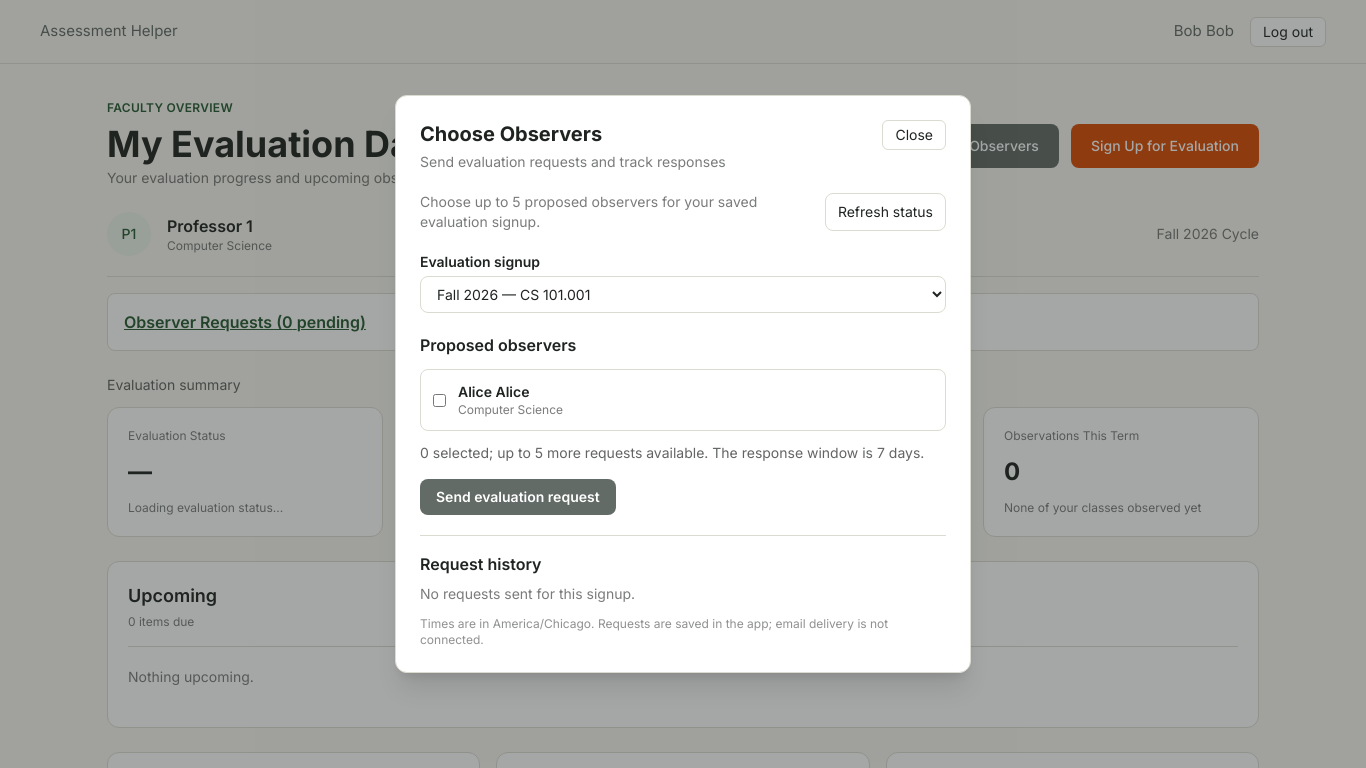
Scenario: keeps the choice after a failed send and allows a retry
This screenshot has width=1366, height=768.
Click the checkbox labelled "Alice Alice Computer Science": (440, 400) x1=433 y1=394 x2=446 y2=406
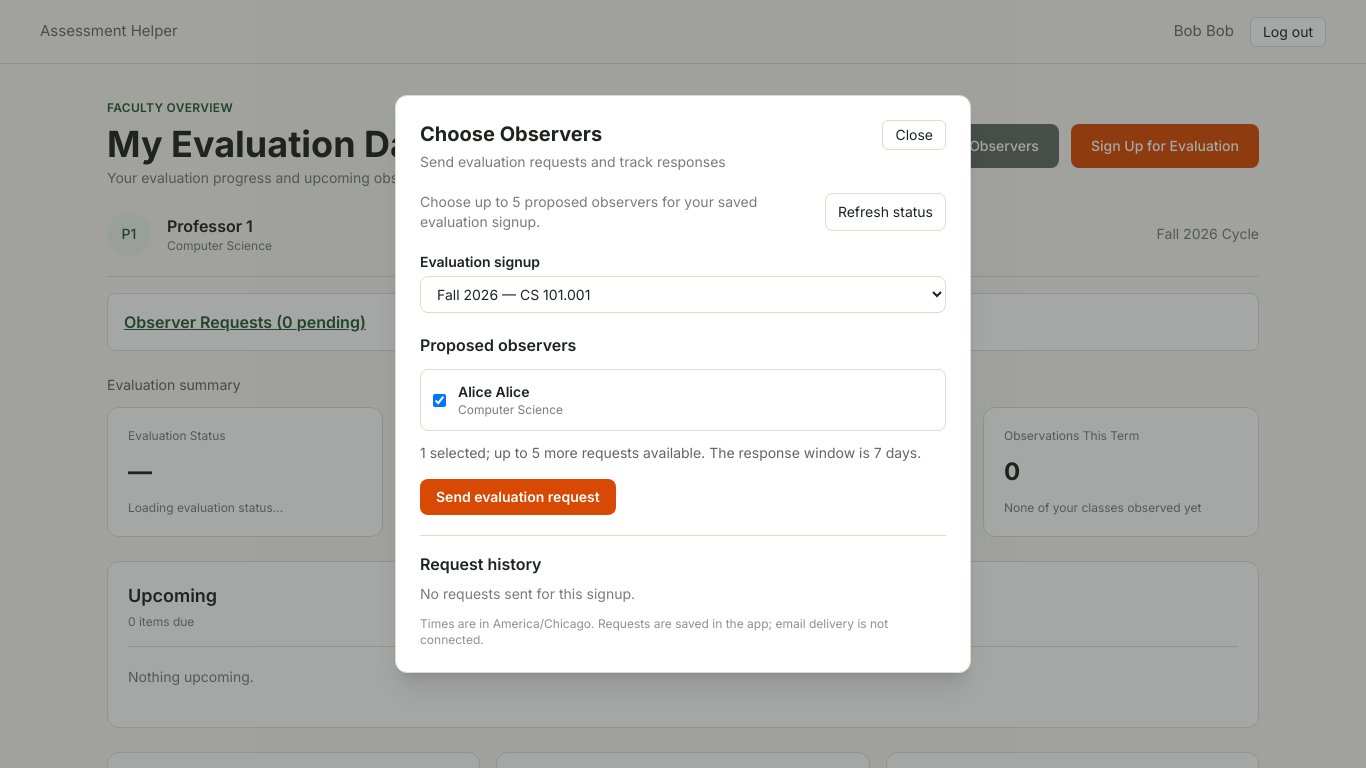
Click the button "Send evaluation request": (518, 497) x1=420 y1=479 x2=616 y2=515
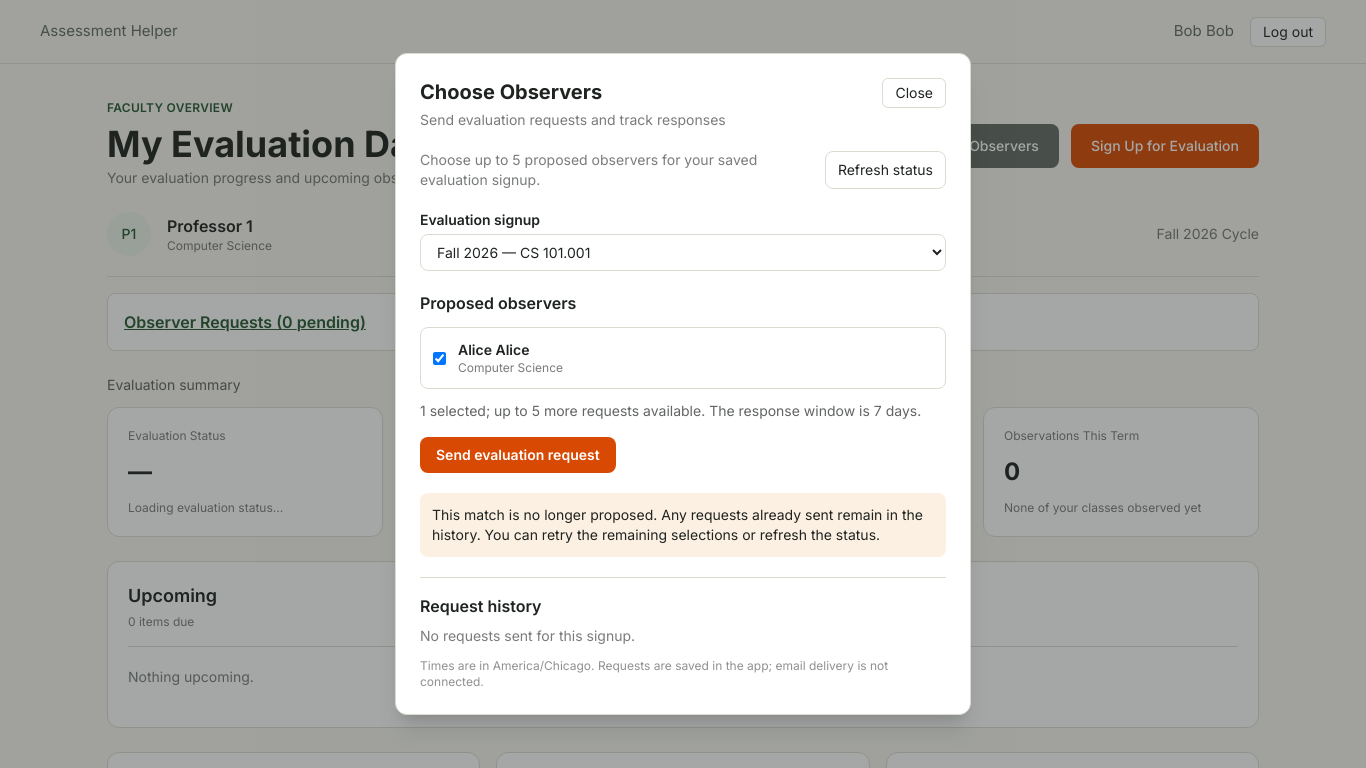
Now the checkbox labelled "Alice Alice Computer Science" is checked, box x1=433 y1=352 x2=446 y2=364
Now the message is shown, box x1=420 y1=493 x2=946 y2=557
Click the button "Send evaluation request": (518, 455) x1=420 y1=437 x2=616 y2=473
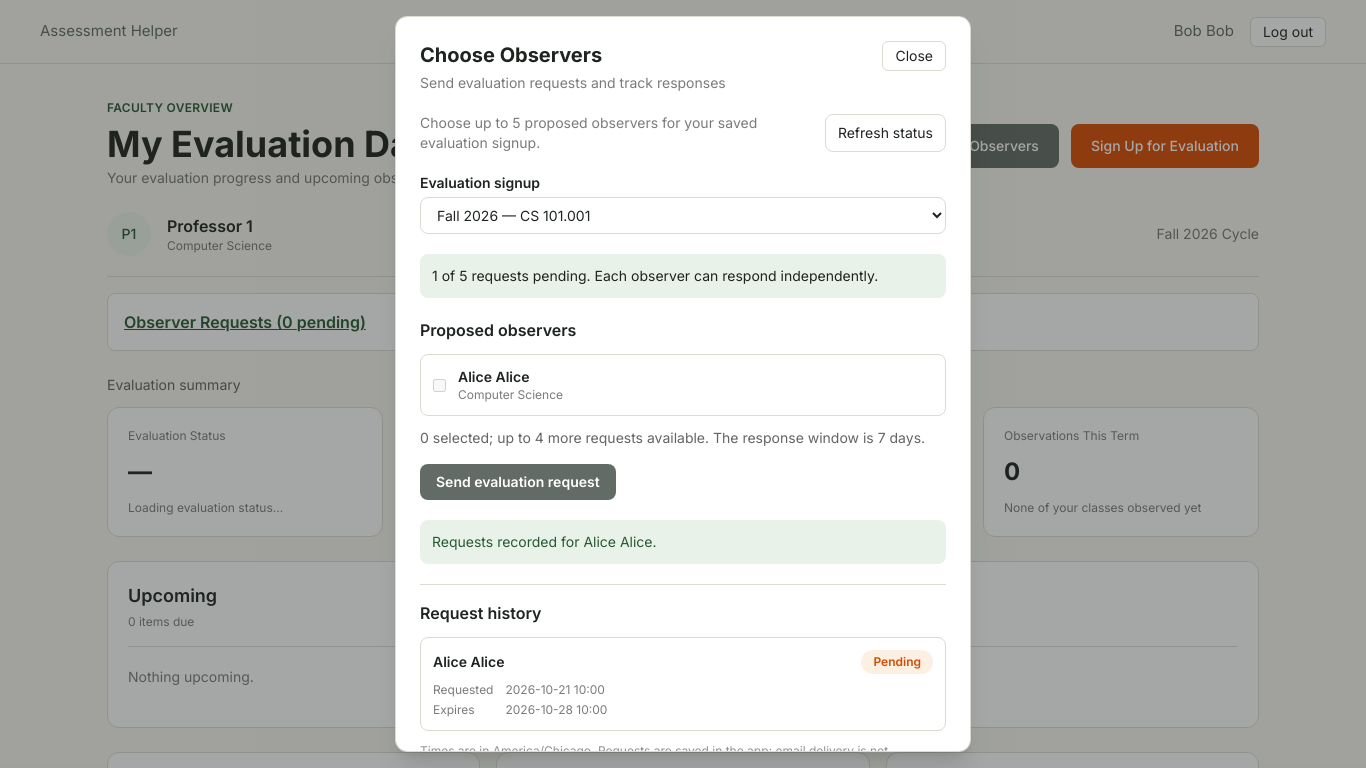
Now the text "Pending" is shown, box x1=861 y1=650 x2=933 y2=674
